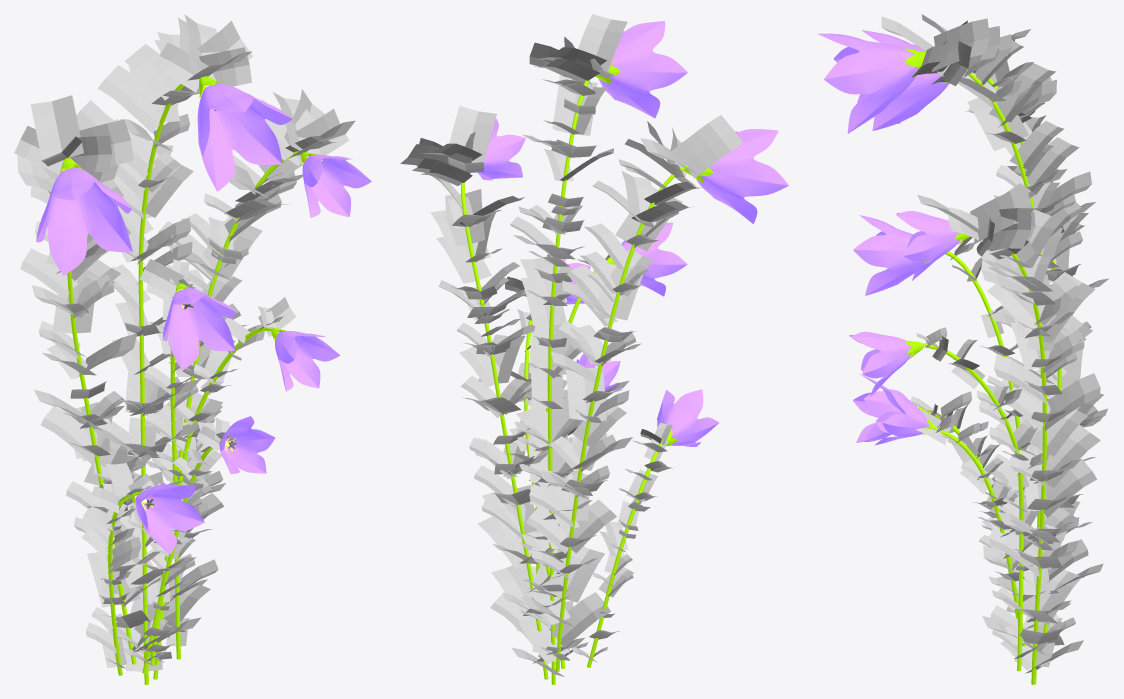
The model's file is kikyo.fbx.
3 renders of one model, left to right at view 1: azimuth 30°, elevation 25°; view 2: azimuth 150°, elevation 25°; view 3: azimuth 270°, elevation 25°, orthographic. The views are drawn at different scales.
Visible parts, largest first — view 1: leaf.001, flower.001, flower, flower.005, flower.004, flower.002, flower.003, stalk, flower.006, stalk.001, stalk.003, stalk.006 (+3 smaller); view 2: leaf.001, flower, flower.001, flower.004, stalk.001, flower.002, flower.005, stalk, stalk.002, stalk.004; view 3: leaf.001, flower, flower.005, flower.001, flower.002, flower.003, flower.006, stalk.002, flower.004, stalk.003, stalk.006, stalk.005 (+1 smaller).
Part boxes in pixels (box(x1,y1,x2,y2)): leaf.001: box(14, 14, 355, 671); flower.001: box(36, 158, 132, 275); flower: box(197, 76, 292, 191); flower.005: box(162, 283, 236, 370); flower.004: box(131, 482, 204, 554); flower.002: box(301, 152, 371, 217); flower.003: box(271, 328, 340, 391); stalk: box(138, 84, 183, 684); flower.006: box(219, 416, 275, 474); stalk.001: box(67, 271, 136, 664); stalk.003: box(170, 282, 180, 659); stalk.006: box(150, 327, 273, 665); leaf.001: box(400, 14, 743, 676); flower: box(595, 21, 687, 118); flower.001: box(684, 129, 788, 223); flower.004: box(657, 389, 719, 446); stalk.001: box(555, 165, 687, 671); flower.002: box(477, 118, 525, 180); flower.005: box(606, 222, 687, 296); stalk: box(548, 80, 589, 684); stalk.002: box(461, 183, 548, 679); stalk.004: box(587, 443, 661, 667); leaf.001: box(881, 14, 1109, 673); flower: box(817, 33, 925, 133); flower.005: box(853, 215, 928, 295); flower.001: box(861, 30, 949, 130); flower.002: box(896, 211, 969, 280); flower.003: box(849, 331, 924, 396); flower.006: box(874, 389, 937, 445); stalk.002: box(1011, 254, 1046, 684); flower.004: box(853, 374, 931, 442); stalk.003: box(945, 251, 1023, 671); stalk.006: box(924, 343, 1023, 645); stalk.005: box(939, 430, 1025, 646).
Size of the model in its own units: 910 by 1647 by 651.
